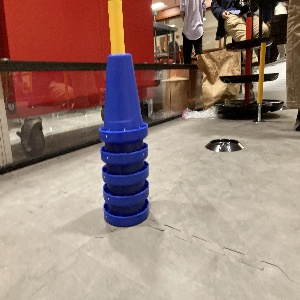Blue_5: (94, 47, 155, 230)
